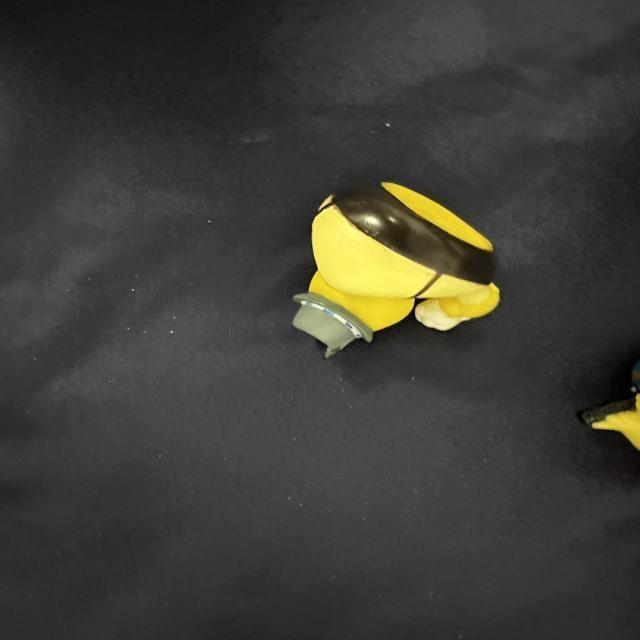rubber-duck: (292, 181, 497, 355)
